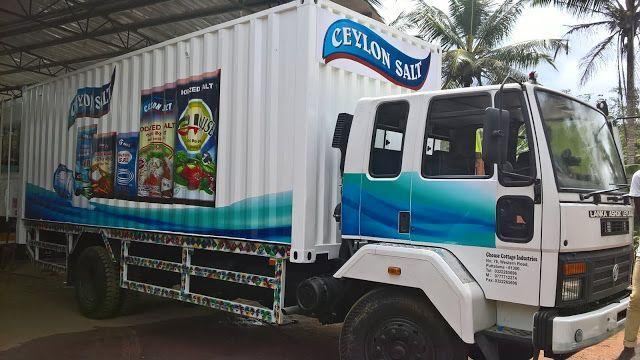truck: (13, 1, 634, 360)
